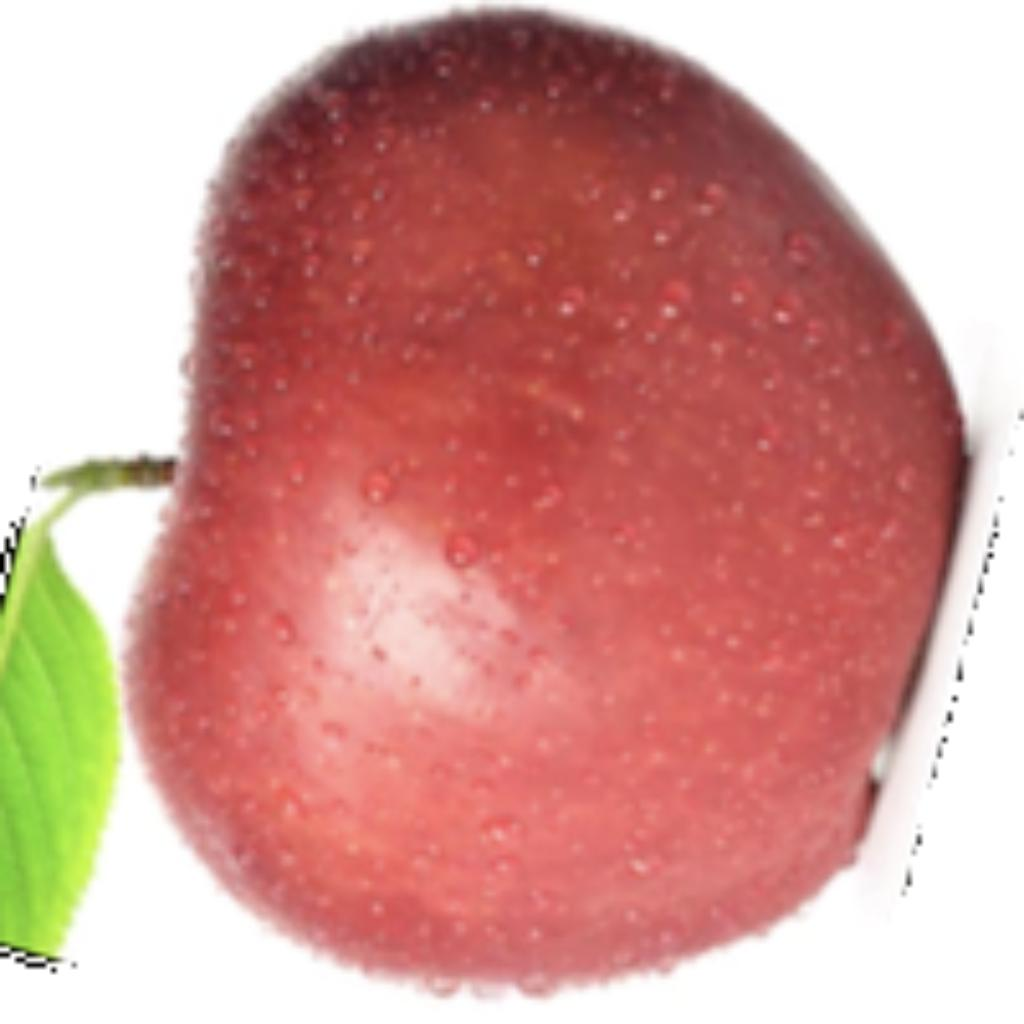apple: (0, 0, 1019, 1004)
